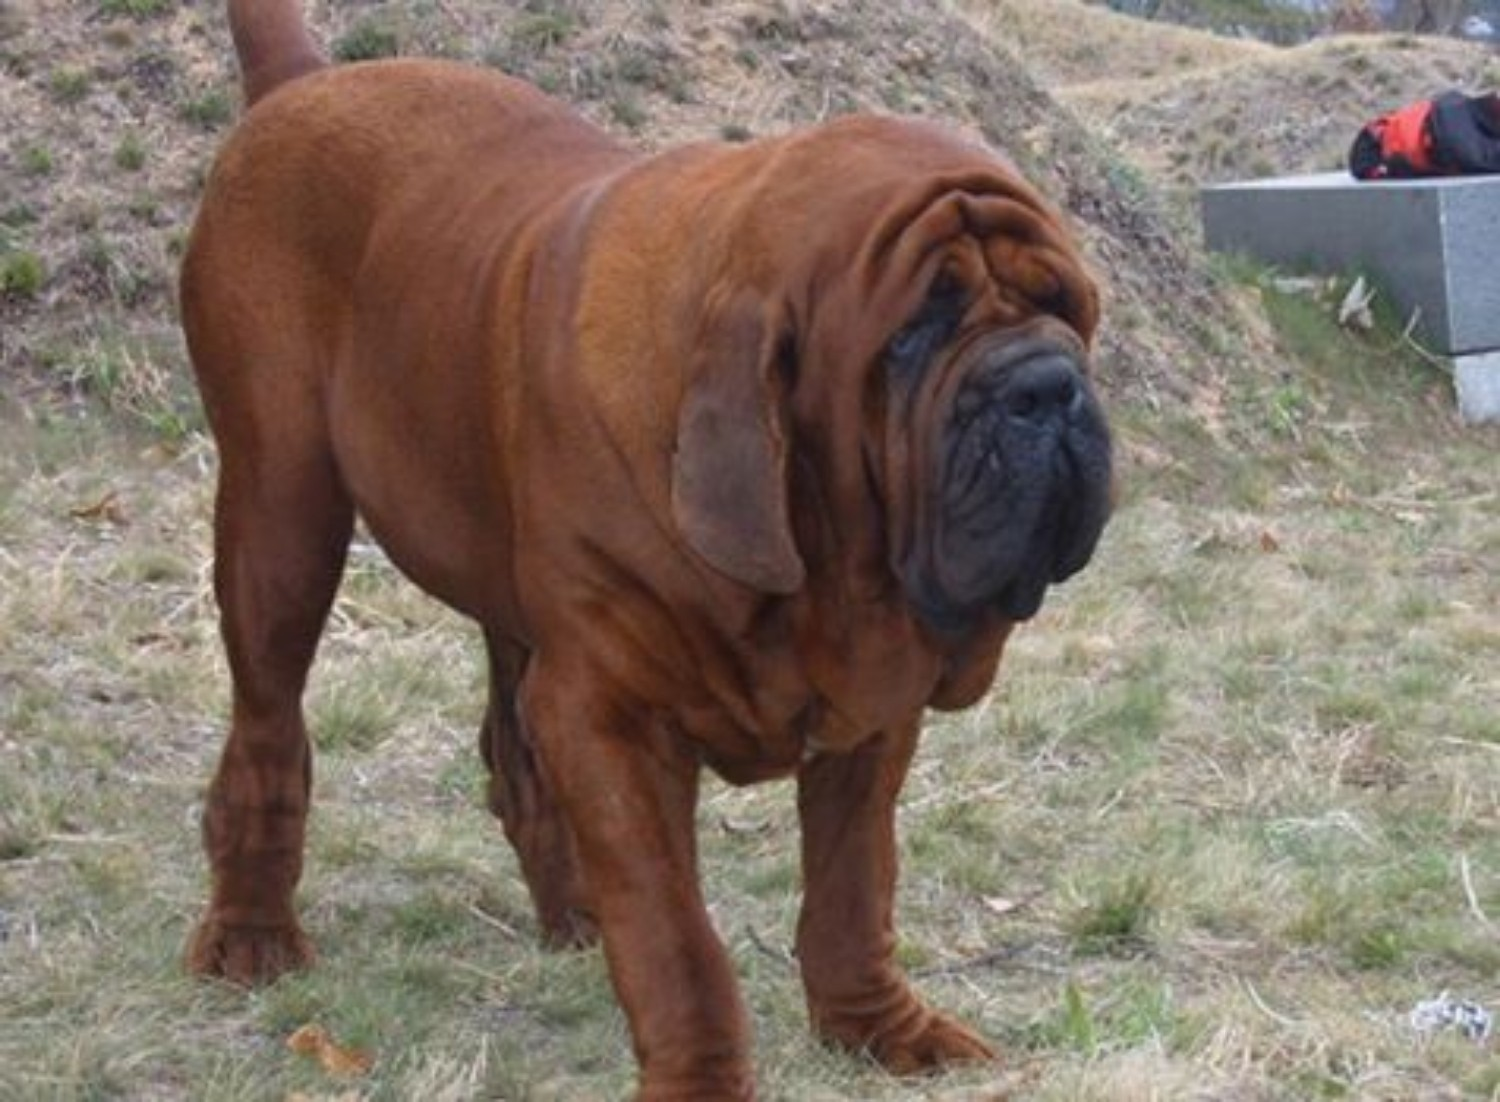dogue_de_bordeaux: (175, 0, 1123, 1102)
